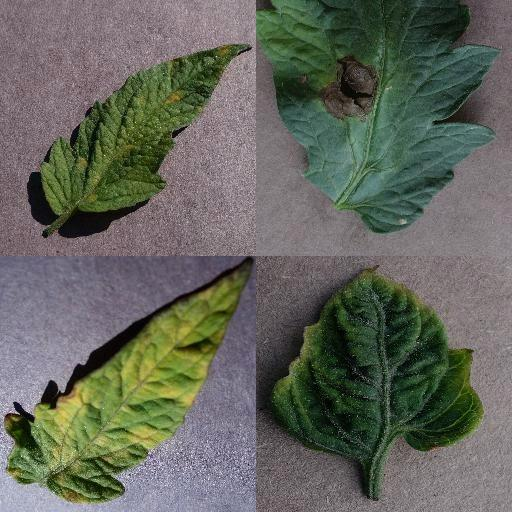Early Blight: (258, 1, 496, 233)
Leaf Mold: (4, 257, 256, 503), (40, 42, 252, 214)
Yellow Leaf Curl Virus: (274, 265, 484, 457)
